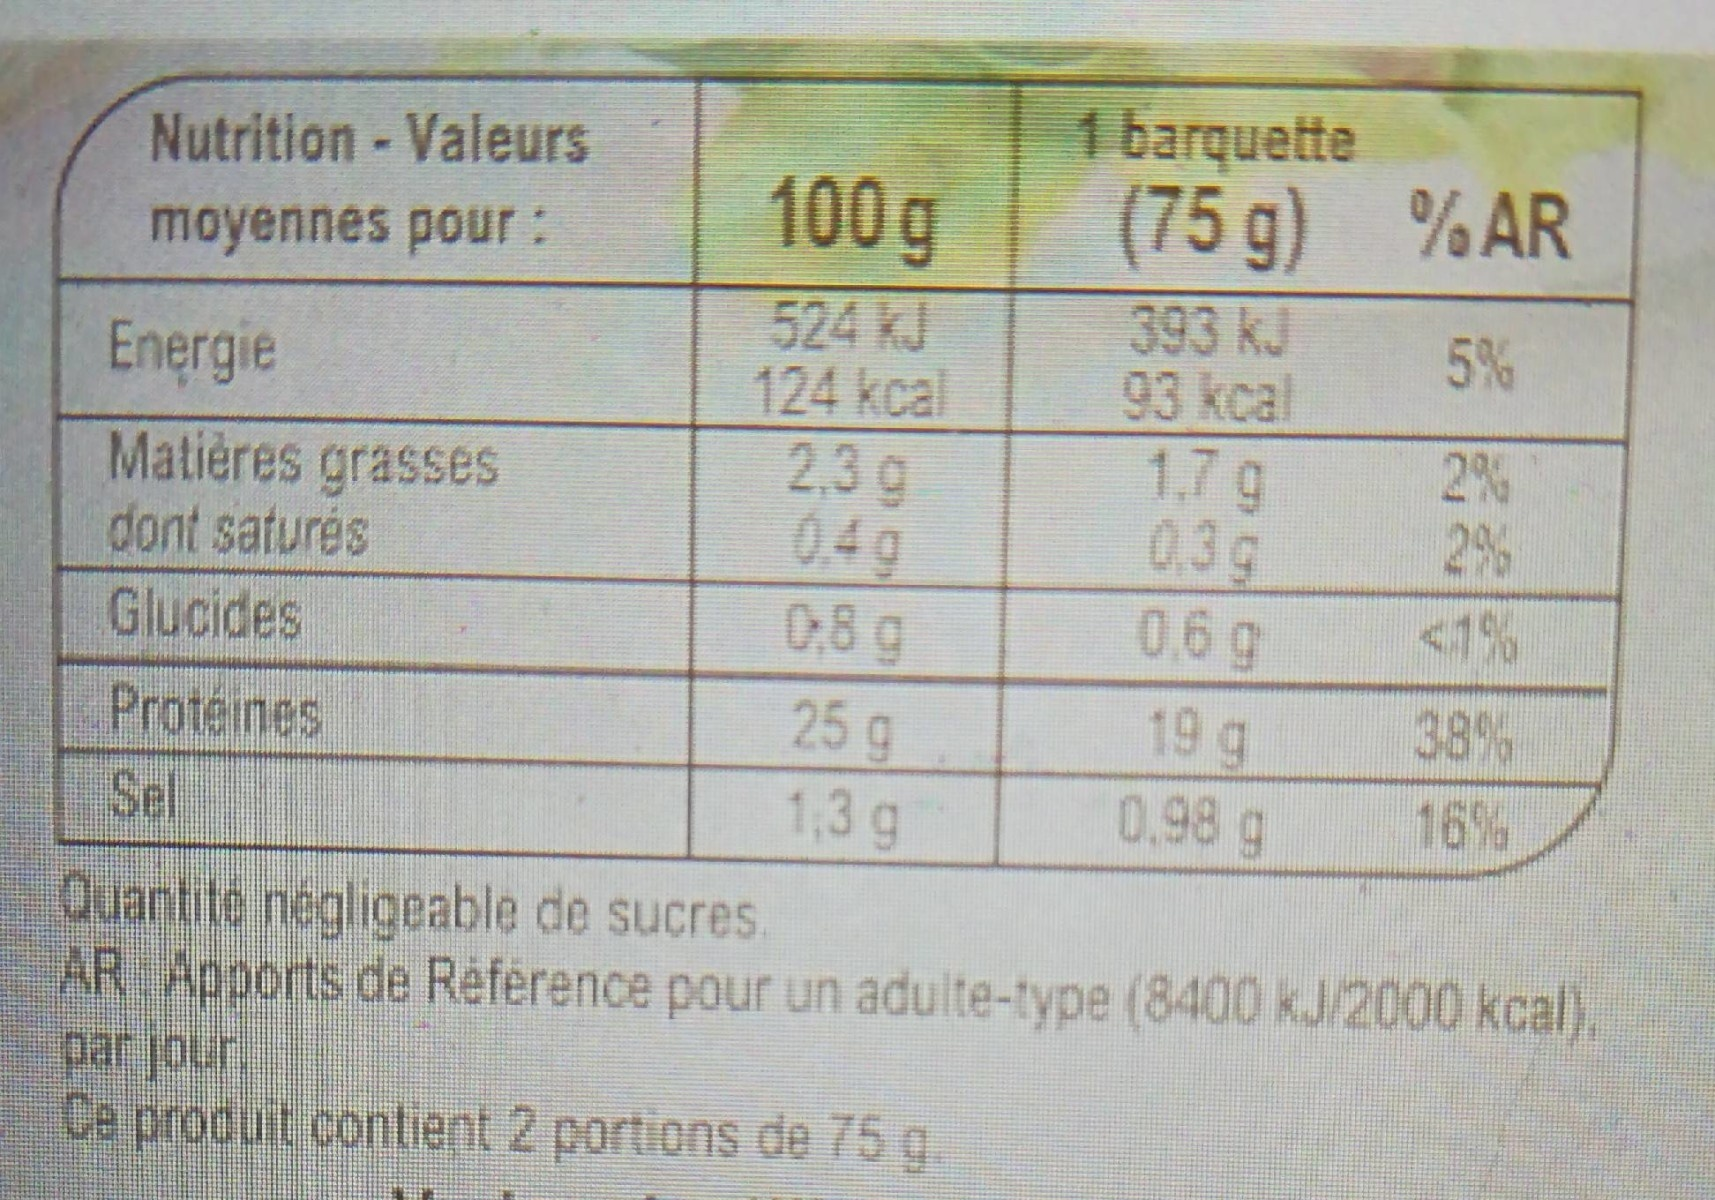column: (102, 77, 592, 863), (1074, 83, 1358, 864), (749, 60, 950, 874), (1401, 90, 1576, 872)
table: (46, 61, 1645, 876)
